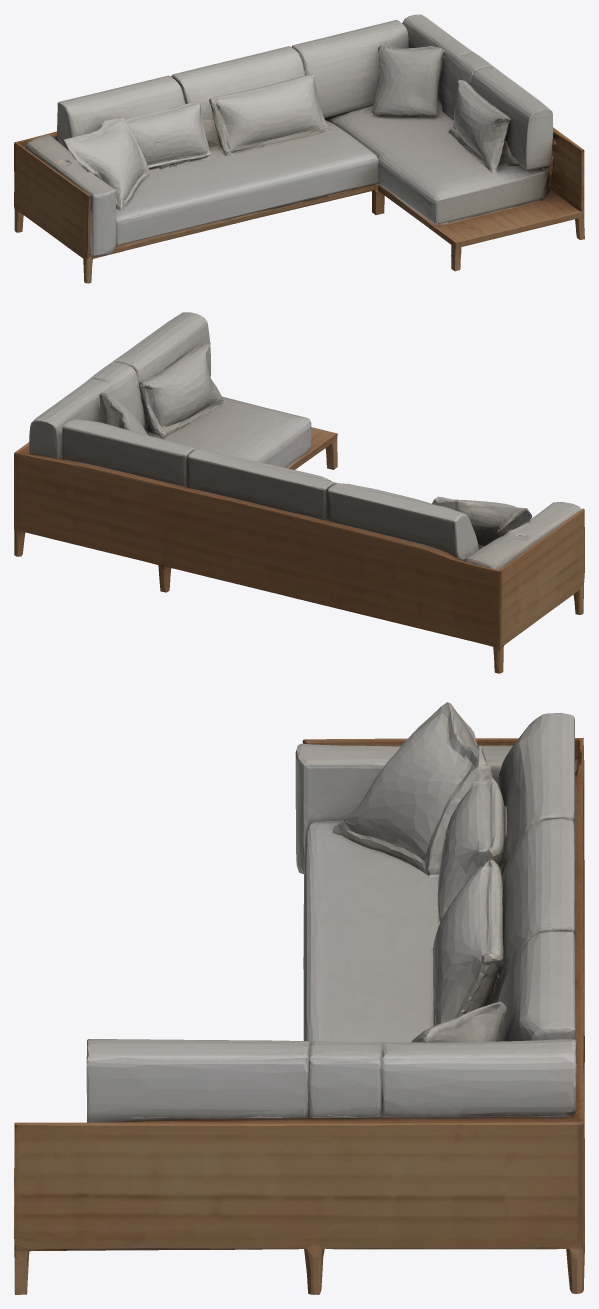
3 renders of one model, top to bottom at view 1: azimuth 30°, elevation 25°; view 2: azimuth 150°, elevation 25°; view 3: azimuth 270°, elevation 25°, orthographic. The views are drawn at different scales.
Parts seen in each view (by area): view 1: world; view 2: world; view 3: world.
Part boxes in pixels (left/top/right/bottom): world: left=14, top=14, right=584, bottom=283; world: left=14, top=312, right=584, bottom=673; world: left=14, top=702, right=584, bottom=1294.
Size of the model in its own units: 1 by 0.2798 by 0.6198.
1 material, 1 textured.
